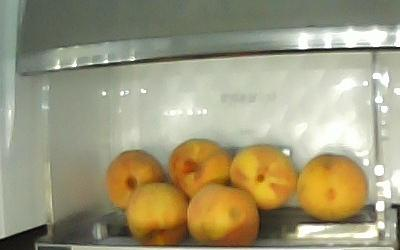peach: (186, 182, 260, 243), (229, 144, 298, 209), (297, 155, 367, 219), (127, 181, 189, 243), (168, 137, 229, 195), (105, 150, 162, 207)
